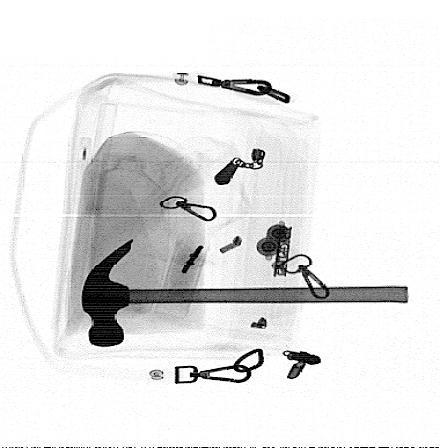Hammer: (81, 237, 409, 348)
